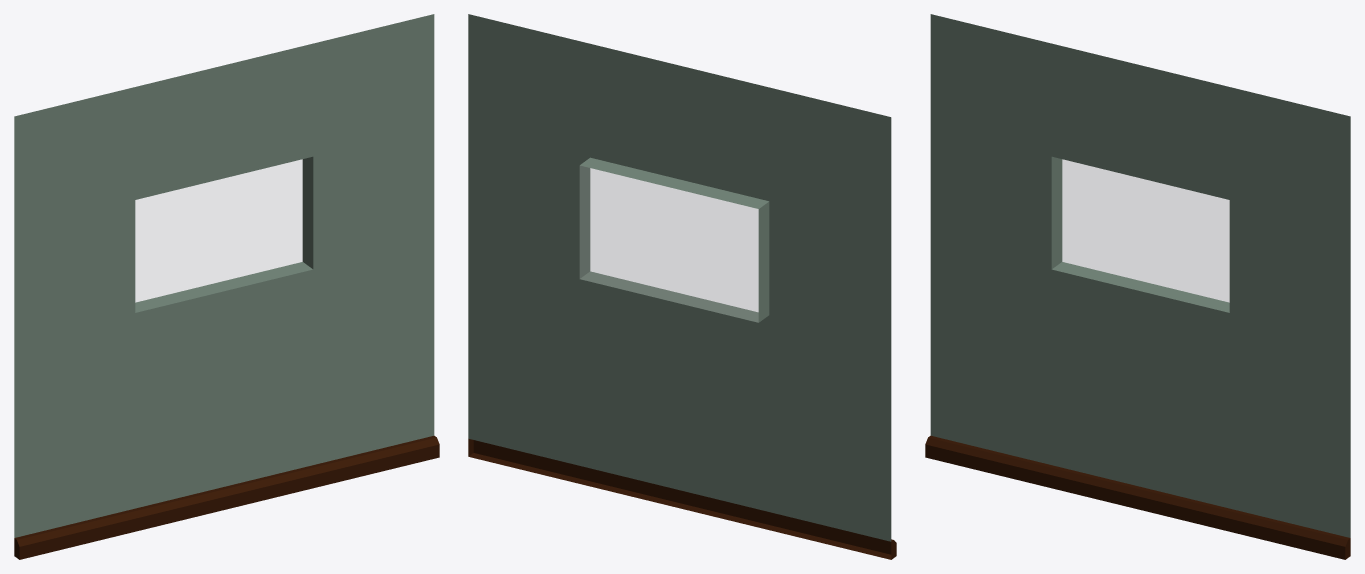
The model's file is wall_window.glb.
3 views of the same model, side by side, from view 1: azimuth 30°, elevation 25°; view 2: azimuth 150°, elevation 25°; view 3: azimuth 330°, elevation 25° (orthographic).
Parts seen in each view (by area): view 1: wall-1-window; view 2: wall-1-window; view 3: wall-1-window.
Boxes of the visible parts, box(x1,y1,x2,y2) form: wall-1-window: box(14, 14, 439, 559); wall-1-window: box(468, 14, 896, 559); wall-1-window: box(925, 14, 1350, 559).
Bounding box in the file's own units: 3.66 × 3.66 × 0.2395.
